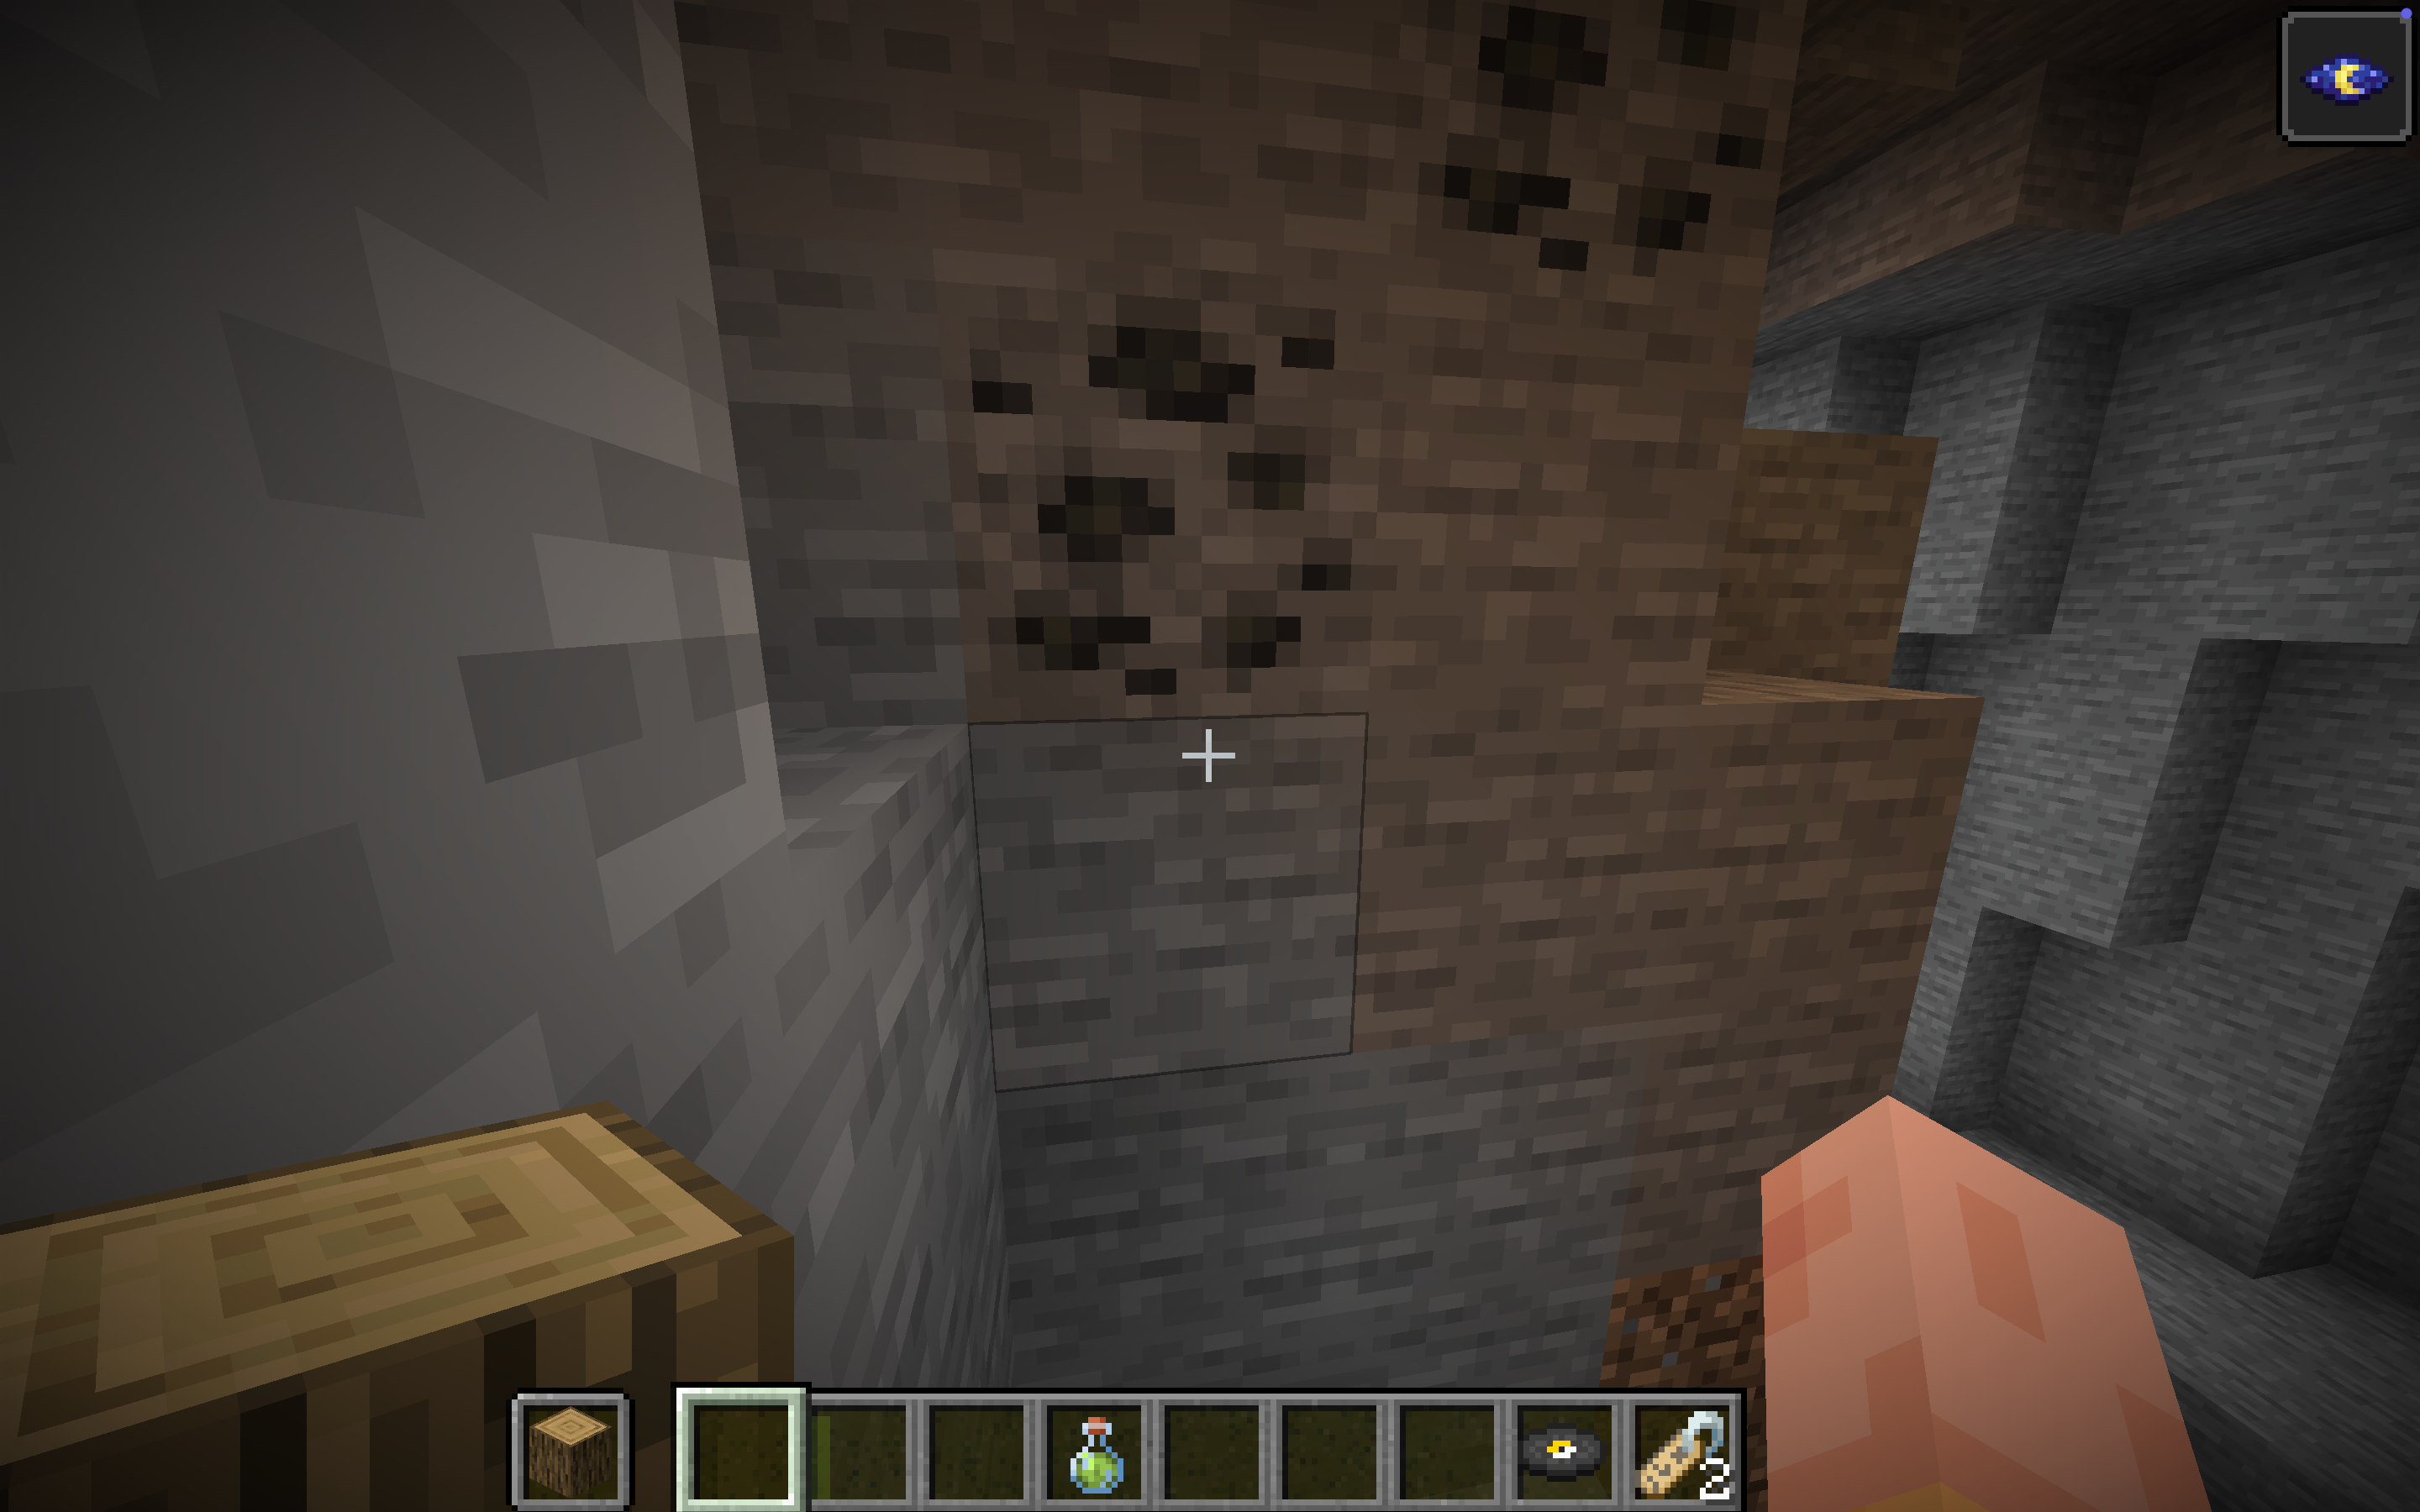coal: (596, 87, 1878, 998)
